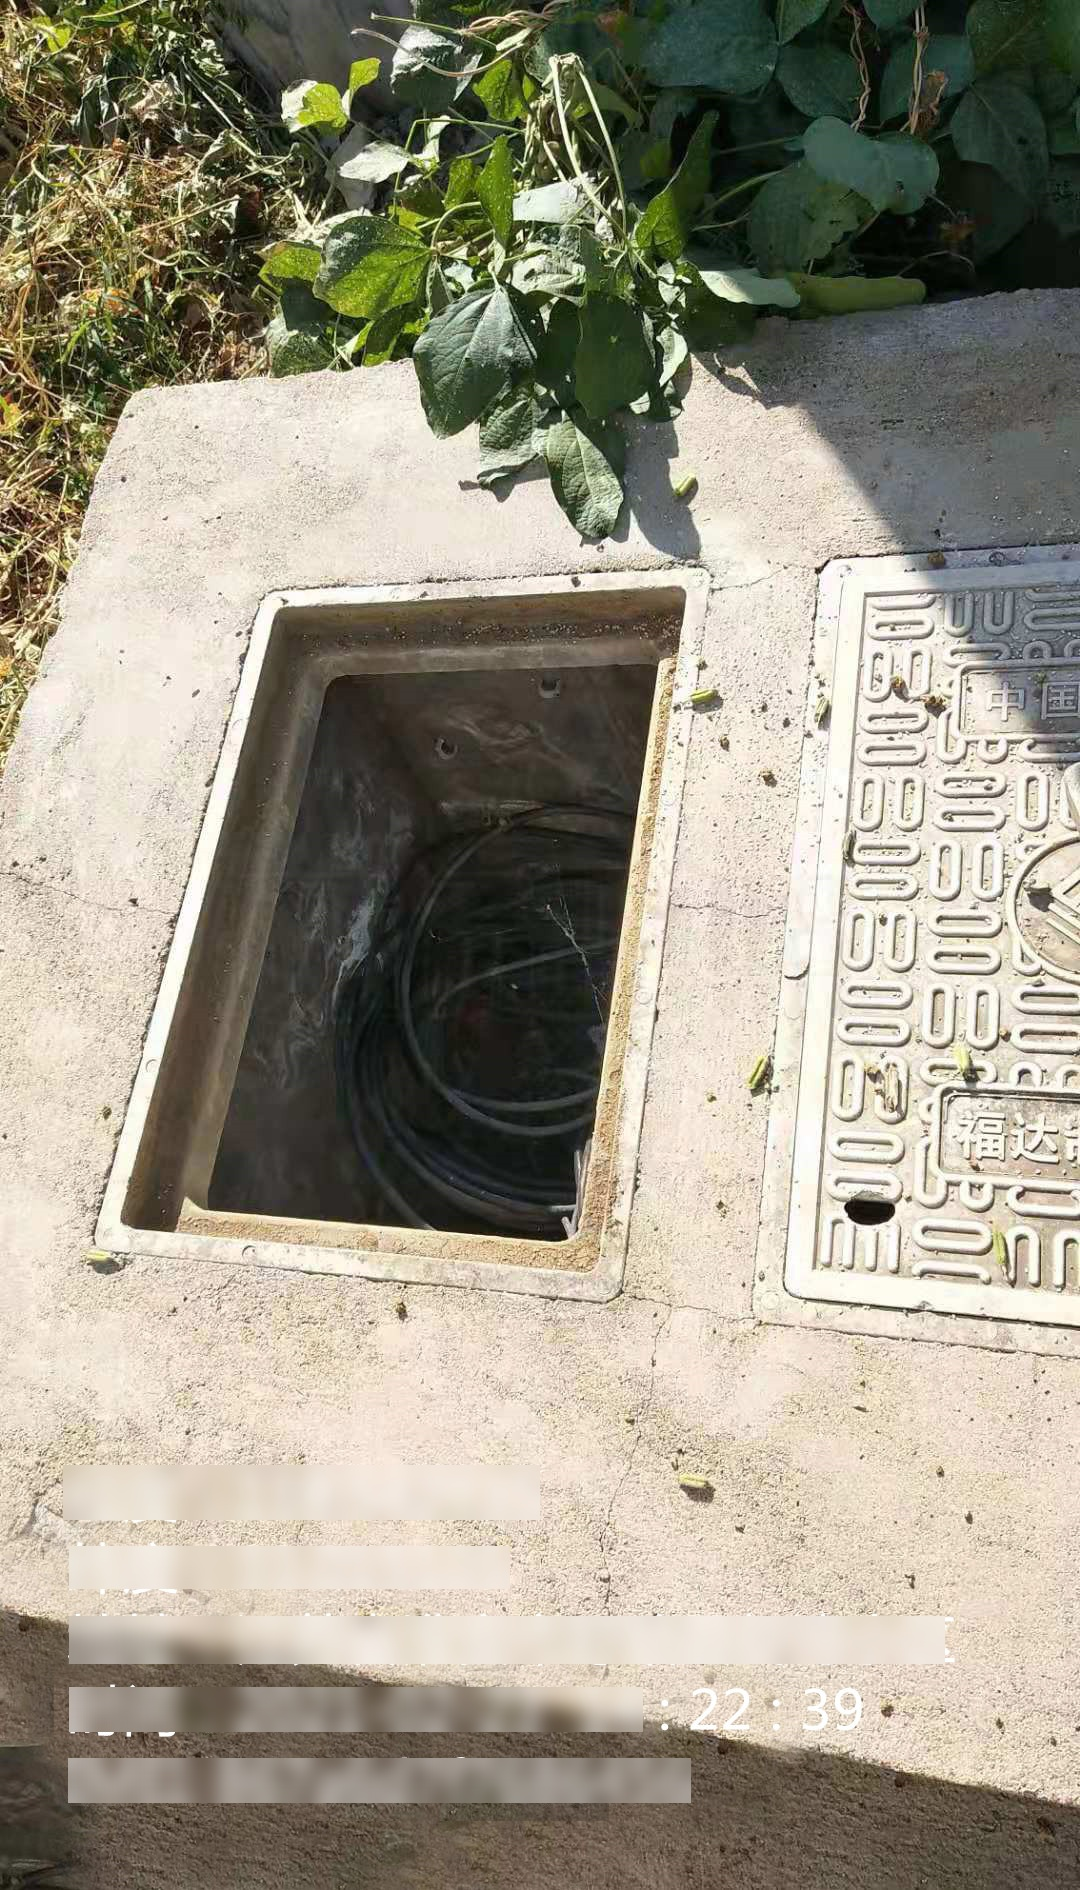lose: (92, 562, 707, 1306)
